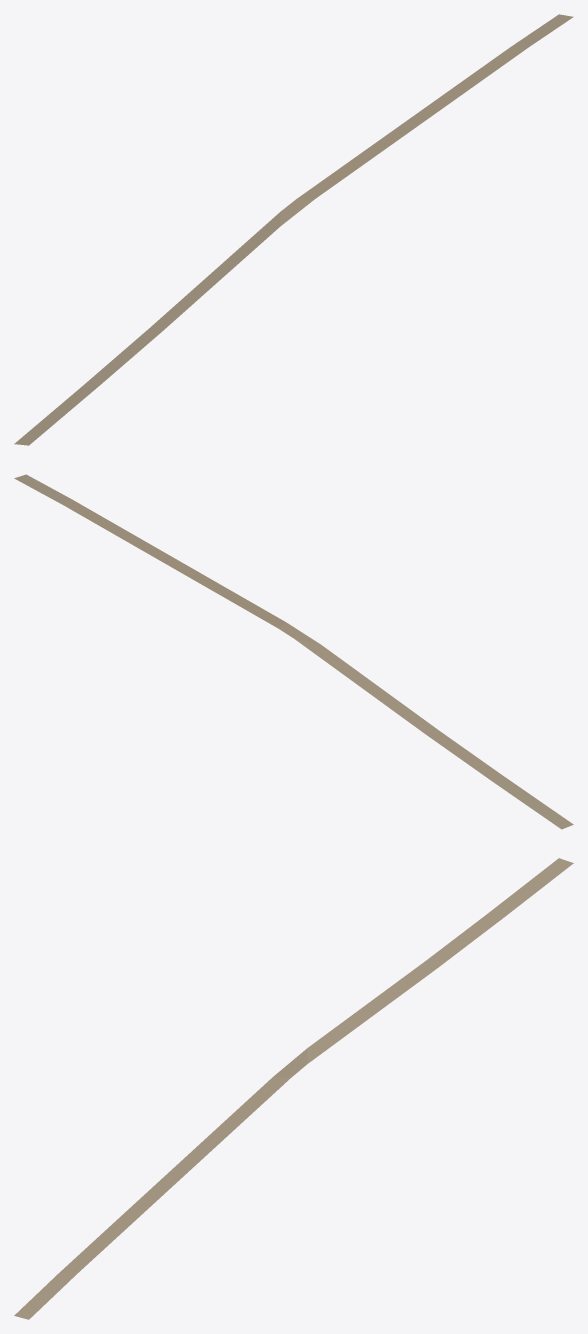
File: farm_-56_-48_track.glb
3 renders of one model, top to bottom at view 1: azimuth 90°, elevation 25°; view 2: azimuth 150°, elevation 25°; view 3: azimuth 270°, elevation 25°, orthographic. The views are drawn at different scales.
Visible parts, largest first — view 1: geometry_0; view 2: geometry_0; view 3: geometry_0.
Boxes of the visible parts, left/top/right/bottom form: geometry_0: left=14, top=14, right=573, bottom=445; geometry_0: left=14, top=474, right=573, bottom=829; geometry_0: left=14, top=858, right=573, bottom=1319.
Size of the model in its own units: 205 by 6.39 by 109.
